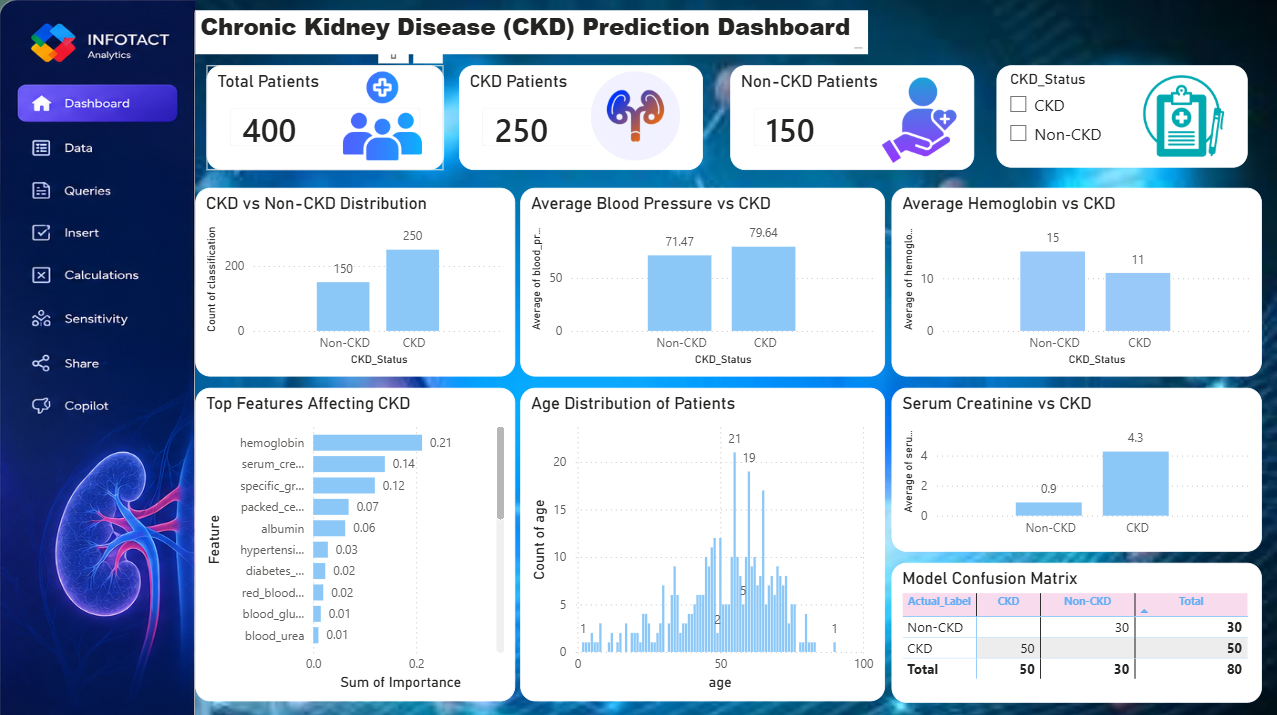

What the dashboard file says about the page in this screenshot:
{"tool":"powerbi","page":{"name":"CKD Prediction Dashboard","canvas":[1280,720],"ordinal":0},"visuals":[{"type":"clusteredColumnChart","title":"CKD vs Non-CKD Distribution","fields":{"Y":["CountNonNull(final_ckd_dataset.classification)"],"Category":["final_ckd_dataset.CKD_Status"]},"box":[196.2,188.8,320,188.8],"z":0},{"type":"clusteredColumnChart","title":"Serum Creatinine vs CKD","fields":{"Y":["Avg(final_ckd_dataset.serum_creatinine)"],"Category":["final_ckd_dataset.CKD_Status"]},"box":[892.5,388.8,370,163.8],"z":1000},{"type":"clusteredColumnChart","title":"Average Hemoglobin vs CKD","fields":{"Y":["Avg(final_ckd_dataset.hemoglobin)"],"Category":["final_ckd_dataset.CKD_Status"]},"box":[892.5,188.8,370,188.8],"z":2000},{"type":"clusteredColumnChart","title":"Average Blood Pressure vs CKD","fields":{"Y":["Avg(final_ckd_dataset.blood_pressure)"],"Category":["final_ckd_dataset.CKD_Status"]},"box":[521.2,188.8,365,188.8],"z":3000},{"type":"clusteredBarChart","title":"Top Features Affecting CKD","fields":{"Category":["feature_importance.Feature"],"Y":["Sum(feature_importance.Importance)"]},"box":[196.2,388.8,320,313.8],"z":4000},{"type":"pivotTable","title":"Model Confusion Matrix","fields":{"Rows":["model_predictions.Actual_Label"],"Columns":["model_predictions.Predicted_label"],"Values":["CountNonNull(model_predictions.Predicted_label)"]},"box":[892.5,563.8,370,140],"z":5000},{"type":"clusteredColumnChart","title":"Age Distribution of Patients","fields":{"Category":["final_ckd_dataset.age"],"Y":["CountNonNull(final_ckd_dataset.age)"]},"box":[521.2,388.8,365,313.8],"z":6000},{"type":"image","box":[0,0,196.2,720],"z":7000},{"type":"cardVisual","title":"Total Patients","fields":{"Data":["CountNonNull(final_ckd_dataset.classification)"]},"box":[207.5,66.2,237.5,105],"z":8000},{"type":"cardVisual","title":"CKD Patients","fields":{"Data":["CountNonNull(final_ckd_dataset.classification)"]},"box":[460,66.2,243.8,105],"z":9000},{"type":"cardVisual","title":"Non-CKD Patients","fields":{"Data":["CountNonNull(final_ckd_dataset.classification)"]},"box":[731.2,66.2,243.8,105],"z":10000},{"type":"slicer","fields":{"Values":["final_ckd_dataset.CKD_Status"]},"box":[997.5,66.2,251.2,102.5],"z":11000},{"type":"image","box":[335,72.5,96.2,88.8],"z":12000},{"type":"image","box":[582.5,72.5,107.5,88.8],"z":13000},{"type":"image","box":[877.5,73.8,85,95],"z":14000},{"type":"image","box":[1136.2,72.5,96.2,88.8],"z":15000},{"type":"textbox","title":"Chronic Kidney Disease (CKD) Prediction Dashboard","box":[196.2,11.2,672.5,43.8],"z":16000}]}

Visuals, with their boxes in screenshot pixels (x1, y1, x2, y2):
"CKD vs Non-CKD Distribution" clusteredColumnChart: (189,185,514,377)
"Serum Creatinine vs CKD" clusteredColumnChart: (896,388,1272,554)
"Average Hemoglobin vs CKD" clusteredColumnChart: (896,185,1272,377)
"Average Blood Pressure vs CKD" clusteredColumnChart: (519,185,890,377)
"Top Features Affecting CKD" clusteredBarChart: (189,388,514,707)
"Model Confusion Matrix" pivotTable: (896,566,1272,708)
"Age Distribution of Patients" clusteredColumnChart: (519,388,890,707)
image: (0,0,189,714)
"Total Patients" cardVisual: (201,61,442,167)
"CKD Patients" cardVisual: (457,61,705,167)
"Non-CKD Patients" cardVisual: (732,61,980,167)
slicer - final_ckd_dataset.CKD_Status: (1003,61,1258,165)
image: (330,67,428,157)
image: (581,67,691,157)
image: (881,68,967,165)
image: (1144,67,1241,157)
"Chronic Kidney Disease (CKD) Prediction Dashboard" textbox: (189,5,872,49)
